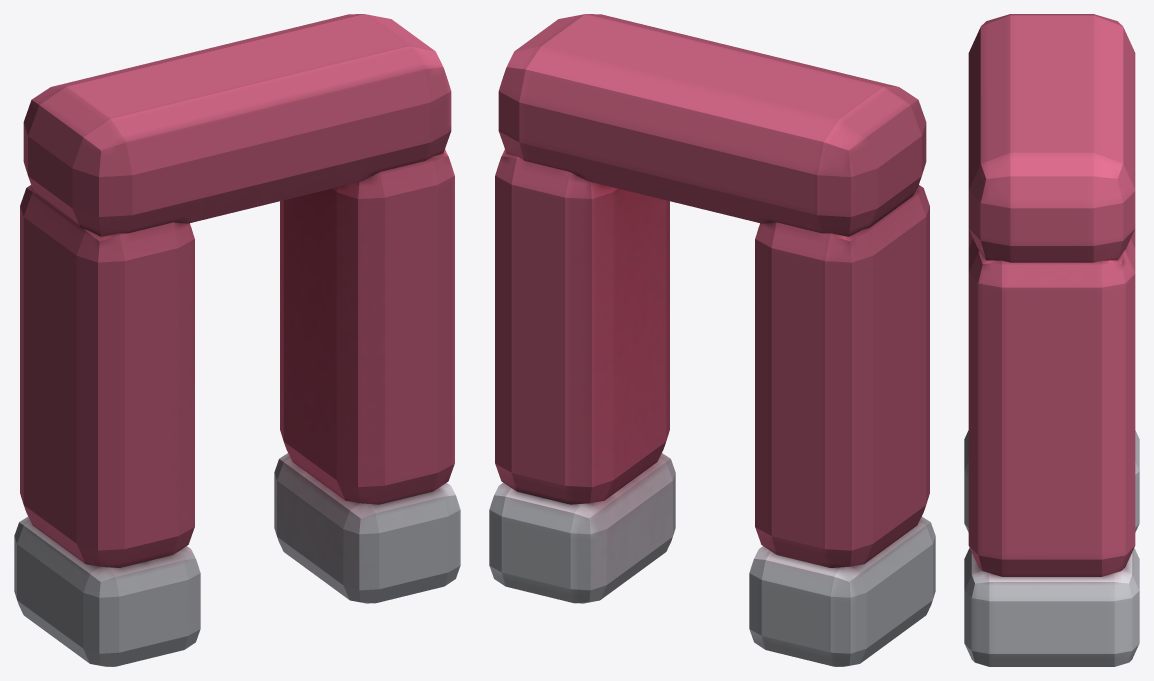
Rendered from pickup_magnet.glb.
3 views of the same model, side by side, from view 1: azimuth 30°, elevation 25°; view 2: azimuth 150°, elevation 25°; view 3: azimuth 270°, elevation 25° (orthographic). The views are drawn at different scales.
Parts seen in each view (by area): view 1: pickup_magnet; view 2: pickup_magnet; view 3: pickup_magnet.
Part boxes in pixels (box(x1,y1,x2,y2)): pickup_magnet: box(14, 14, 460, 666); pickup_magnet: box(489, 14, 935, 666); pickup_magnet: box(964, 14, 1139, 666).
Size of the model in its own units: 0.49 by 0.67 by 0.21.
Materials: 2 (2 with a texture image).
